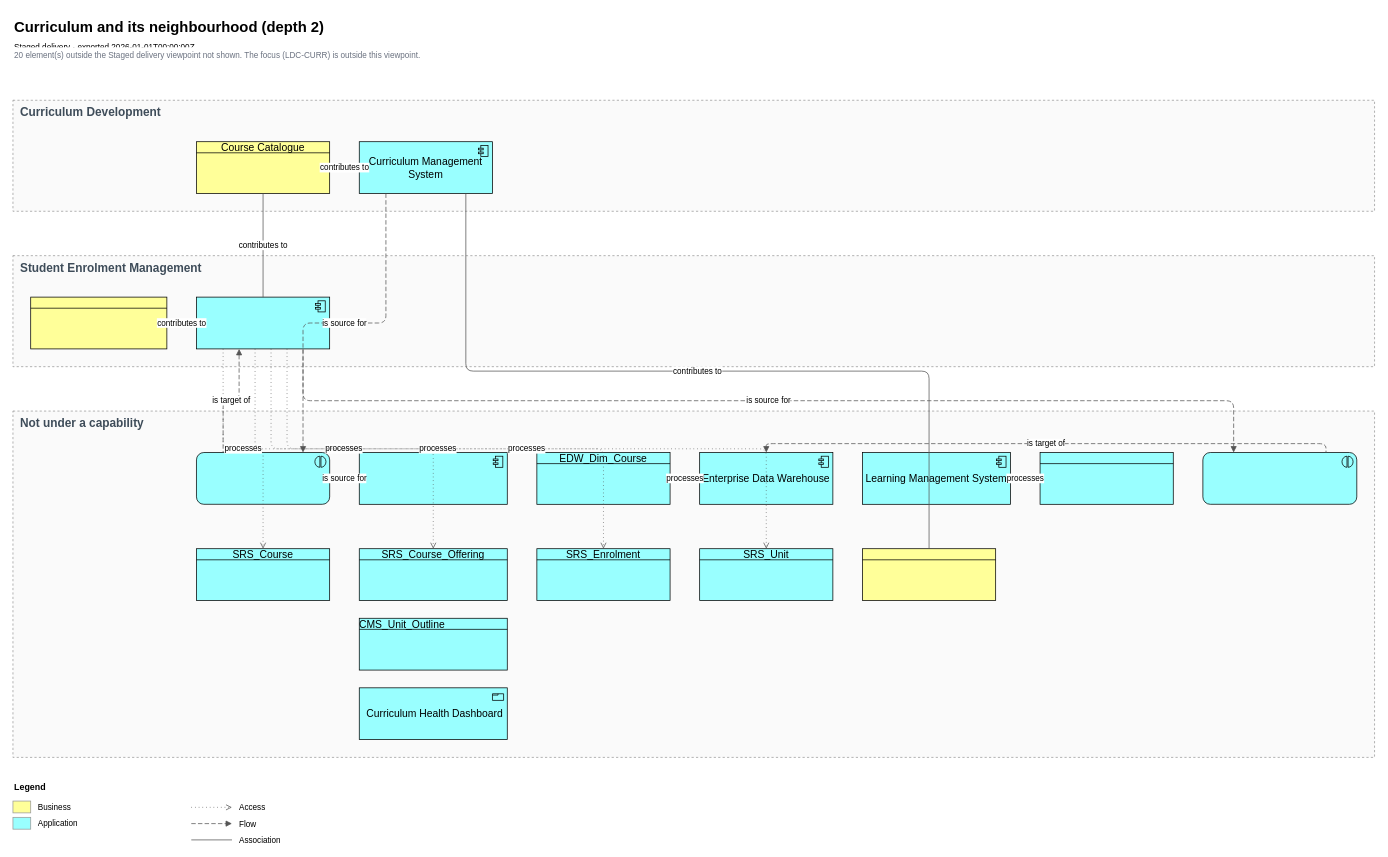
The diagram is 1388 pixels wide and 857 high, and some of its shapes have lost their labels. The centre of each missing label's shape, as x and y in pixels:
CMS to SRS curriculum sync: the point at 263,478
Curriculum Approval Workflow: the point at 433,478
LMS_Unit_Site: the point at 1106,478
SRS to EDW ingestion: the point at 1279,478
Student Enrolment Records: the point at 98,322
Student Records System (SRS): the point at 263,322
Unit Outlines: the point at 929,574
